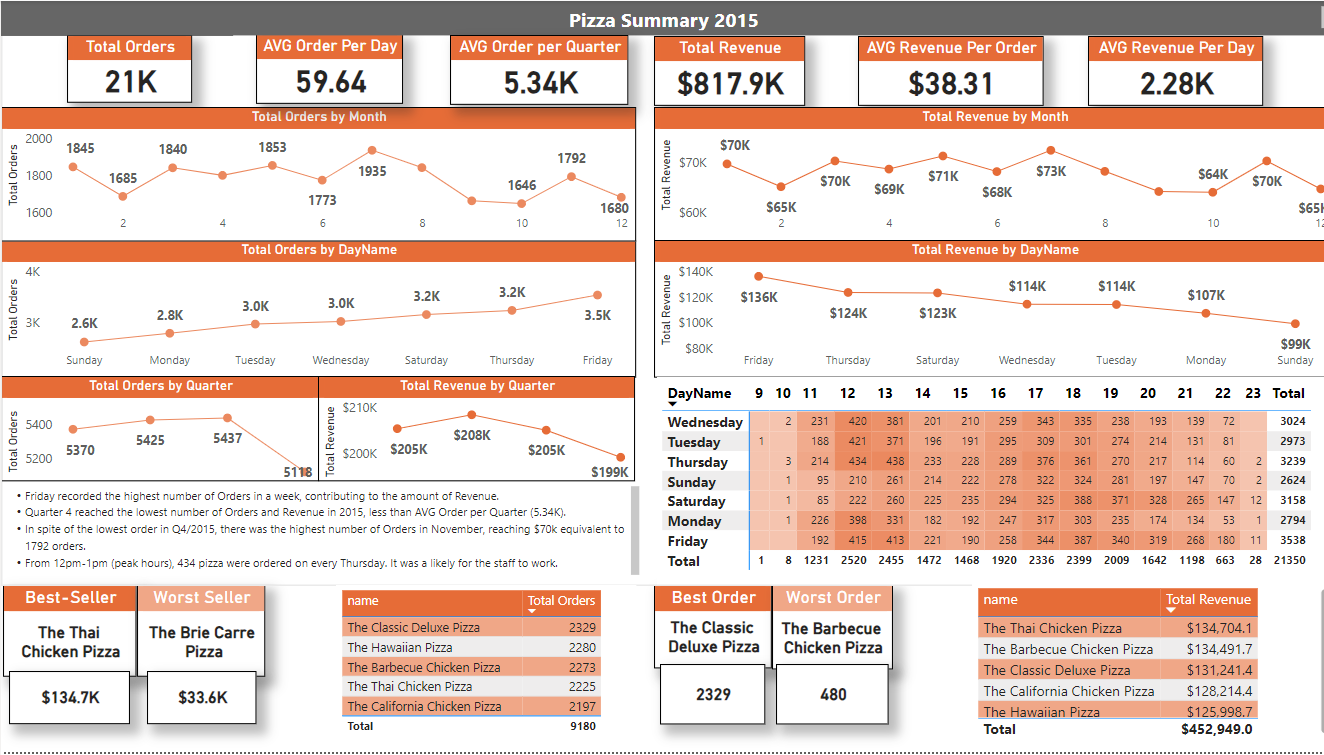

Layout of this report page (visuals, bound fields, positions):
{"tool":"powerbi","page":{"name":"Dashboard","canvas":[1280,720],"ordinal":5},"visuals":[{"type":"card","title":"Total Orders","fields":{"Values":["Fact_Pizza.TotalOrder"]},"box":[63.3,32.6,119.9,65.2],"z":0},{"type":"card","title":"Total Revenue","fields":{"Values":["Fact_Pizza.TotalSale"]},"box":[626.2,33.4,144.6,66.8],"z":1000},{"type":"card","title":"AVG Revenue Per Order","fields":{"Values":["Fact_Pizza.Average Order"]},"box":[821.7,33.4,178,66.8],"z":2000},{"type":"lineChart","fields":{"Category":["DimDate.DayName"],"Y":["Fact_Pizza.Total Orders"]},"box":[0,228.9,608.7,131.9],"z":3000},{"type":"lineChart","fields":{"Category":["DimDate.Month"],"Y":["Fact_Pizza.Total Orders"]},"box":[0,101.7,608.7,128.7],"z":4000},{"type":"lineChart","fields":{"Y":["Fact_Pizza.Total Orders"],"Category":["DimDate.Quarter"]},"box":[0,359.6,305.2,101.1],"z":5000},{"type":"card","title":"AVG Order Per Day","fields":{"Values":["Fact_Pizza.AVG Order per Day"]},"box":[244.5,31.6,140.9,67.1],"z":6000},{"type":"card","title":"AVG Revenue Per Day","fields":{"Values":["Fact_Pizza.AVG Revenue per Day"]},"box":[1042.6,33.4,168.5,66.8],"z":7000},{"type":"lineChart","fields":{"Category":["DimDate.Quarter"],"Y":["Fact_Pizza.Total Revenue"]},"box":[304.2,359.6,304.2,101.1],"z":8000},{"type":"lineChart","fields":{"Category":["DimDate.Month"],"Y":["Fact_Pizza.Total Revenue"]},"box":[626.2,101.7,653.2,128.7],"z":9000},{"type":"lineChart","fields":{"Category":["DimDate.DayName"],"Y":["Fact_Pizza.Total Revenue"]},"box":[626.2,228.9,653.2,131.9],"z":10000},{"type":"card","title":"Best-Seller","fields":{"Values":["Min(Pizza Type.name)"]},"box":[1.9,559.9,128.5,88.2],"z":11000},{"type":"card","title":"Worst Seller","fields":{"Values":["Min(Pizza Type.name)"]},"box":[130.4,559.9,122.7,88.2],"z":12000},{"type":"card","title":"Best Order","fields":{"Values":["Min(Pizza Type.name)"]},"box":[626.1,559.9,113.1,79.6],"z":13000},{"type":"card","fields":{"Values":["Fact_Pizza.Total Revenue"]},"box":[7.9,642.1,116,50.9],"z":14000},{"type":"card","fields":{"Values":["Fact_Pizza.Total Revenue"]},"box":[140,642.4,105,50.5],"z":15000},{"type":"card","fields":{"Values":["Fact_Pizza.Total Orders"]},"box":[631.9,635.7,100.7,57.5],"z":16000},{"type":"card","title":"Worst Order","fields":{"Values":["Min(Pizza Type.name)"]},"box":[739.2,559.9,116,81.5],"z":17000},{"type":"pivotTable","fields":{"Rows":["DimDate.DayName"],"Values":["Fact_Pizza.Total Orders"],"Columns":["Fact_Pizza.Hour"]},"box":[629.4,360.8,650.1,200.3],"z":18000},{"type":"shape","box":[0,0,1279,560.9],"z":19000},{"type":"card","fields":{"Values":["Fact_Pizza.Total Orders"]},"box":[743.1,635.7,108.3,57.5],"z":20000},{"type":"shape","box":[0,0,222.5,33.4],"z":21000},{"type":"textbox","box":[0,0,1279.5,33.4],"z":22000},{"type":"textbox","box":[0,460.2,617.5,100.7],"z":23000},{"type":"card","title":"AVG Order per Quarter","fields":{"Values":["DimDate.AVG Order per Quarter"]},"box":[430.6,33,171.1,67.1],"z":24000},{"type":"tableEx","fields":{"Values":["Pizza Type.name","Fact_Pizza.Total Revenue"]},"box":[931,558,348,154.4],"z":25000},{"type":"tableEx","fields":{"Values":["Pizza Type.name","Fact_Pizza.Total Orders"]},"box":[321.2,559.9,287.6,152.4],"z":26000}]}

Visuals, with their boxes in screenshot pixels (x1, y1, x2, y2), scaled from the page's 1280x720 canvas onto the 1324x755 screenshot:
"Total Orders" card: (left=65, top=34, right=189, bottom=103)
"Total Revenue" card: (left=648, top=35, right=797, bottom=105)
"AVG Revenue Per Order" card: (left=850, top=35, right=1034, bottom=105)
lineChart - DimDate.DayName x Fact_Pizza.Total Orders: (left=0, top=240, right=630, bottom=378)
lineChart - DimDate.Month x Fact_Pizza.Total Orders: (left=0, top=107, right=630, bottom=242)
lineChart - Fact_Pizza.Total Orders x DimDate.Quarter: (left=0, top=377, right=316, bottom=483)
"AVG Order Per Day" card: (left=253, top=33, right=399, bottom=103)
"AVG Revenue Per Day" card: (left=1078, top=35, right=1253, bottom=105)
lineChart - DimDate.Quarter x Fact_Pizza.Total Revenue: (left=315, top=377, right=629, bottom=483)
lineChart - DimDate.Month x Fact_Pizza.Total Revenue: (left=648, top=107, right=1323, bottom=242)
lineChart - DimDate.DayName x Fact_Pizza.Total Revenue: (left=648, top=240, right=1323, bottom=378)
"Best-Seller" card: (left=2, top=587, right=135, bottom=680)
"Worst Seller" card: (left=135, top=587, right=262, bottom=680)
"Best Order" card: (left=648, top=587, right=765, bottom=671)
card - Fact_Pizza.Total Revenue: (left=8, top=673, right=128, bottom=727)
card - Fact_Pizza.Total Revenue: (left=145, top=674, right=253, bottom=727)
card - Fact_Pizza.Total Orders: (left=654, top=667, right=758, bottom=727)
"Worst Order" card: (left=765, top=587, right=885, bottom=673)
pivotTable - DimDate.DayName x Fact_Pizza.Total Orders: (left=651, top=378, right=1323, bottom=588)
shape: (left=0, top=0, right=1323, bottom=588)
card - Fact_Pizza.Total Orders: (left=769, top=667, right=881, bottom=727)
shape: (left=0, top=0, right=230, bottom=35)
textbox: (left=0, top=0, right=1323, bottom=35)
textbox: (left=0, top=483, right=639, bottom=588)
"AVG Order per Quarter" card: (left=445, top=35, right=622, bottom=105)
tableEx - Pizza Type.name x Fact_Pizza.Total Revenue: (left=963, top=585, right=1323, bottom=747)
tableEx - Pizza Type.name x Fact_Pizza.Total Orders: (left=332, top=587, right=630, bottom=747)
